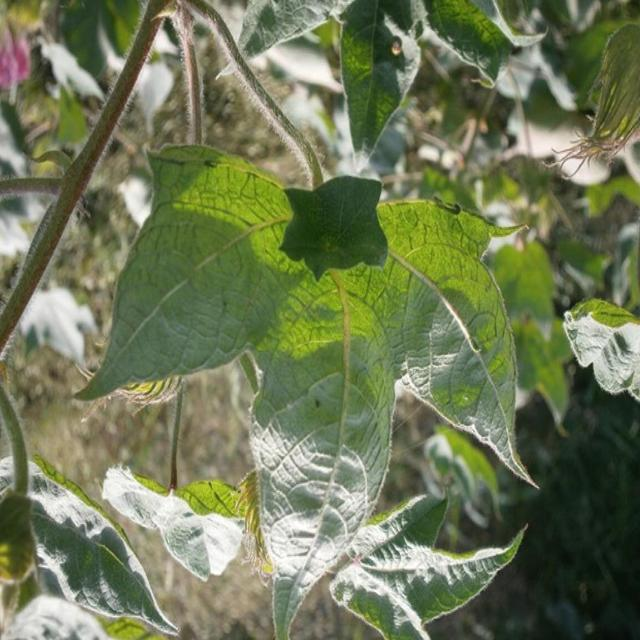Leaf Curl Virus: (165, 162, 470, 504)
